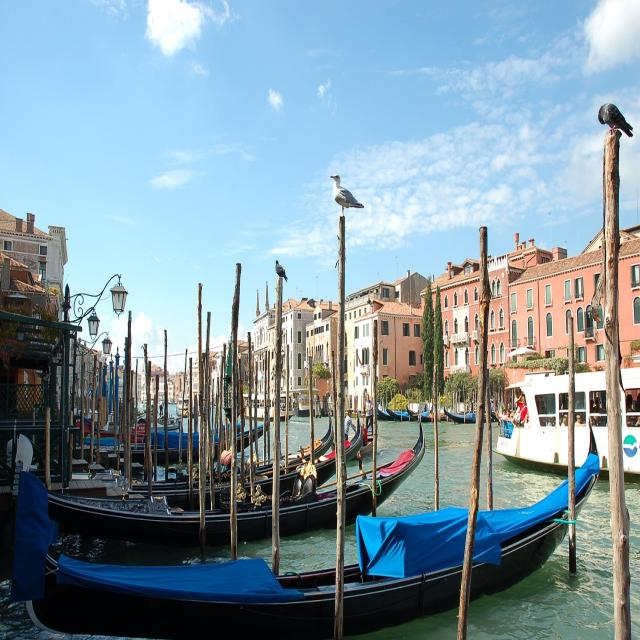boat: (5, 421, 608, 634), (3, 417, 431, 559)
